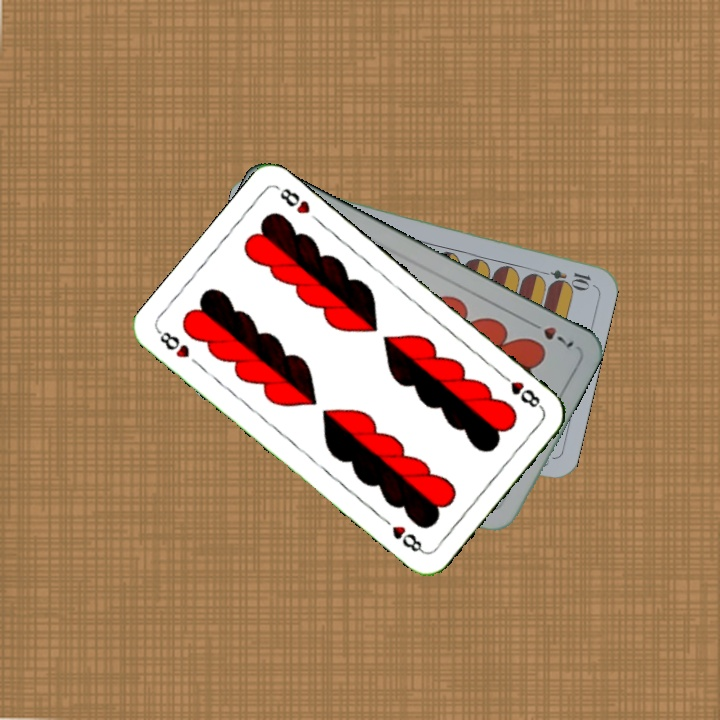E10: (534, 265, 593, 290)
H7: (524, 316, 577, 354)
H8: (496, 369, 546, 412), (154, 327, 192, 361)
